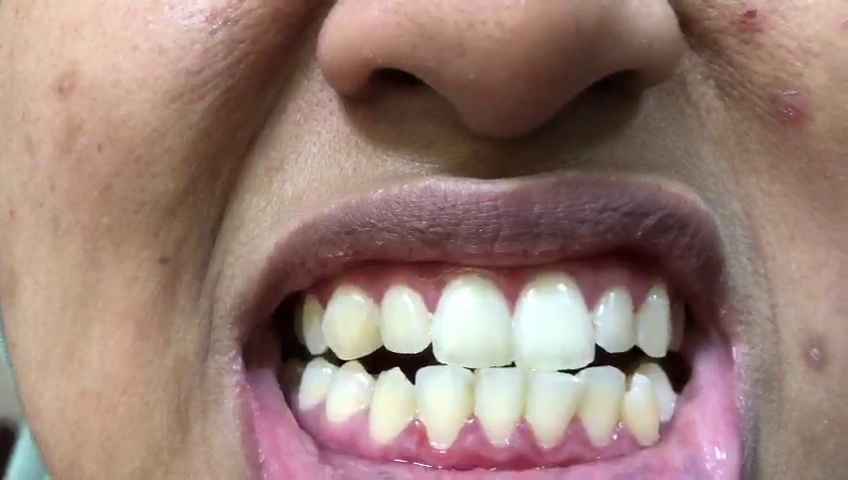1st Premolar: (325, 362, 373, 422), (640, 362, 679, 429), (301, 285, 327, 357)
2nd Premolar: (297, 359, 333, 416)
Canine: (321, 284, 381, 363), (370, 365, 413, 445), (622, 371, 660, 450), (637, 281, 670, 359)
Central Incisor: (514, 274, 595, 371), (434, 274, 513, 369), (524, 365, 582, 447), (474, 367, 525, 449)
Lateral Incisor: (416, 364, 475, 453), (378, 282, 432, 355), (581, 365, 624, 451), (593, 282, 638, 352)
